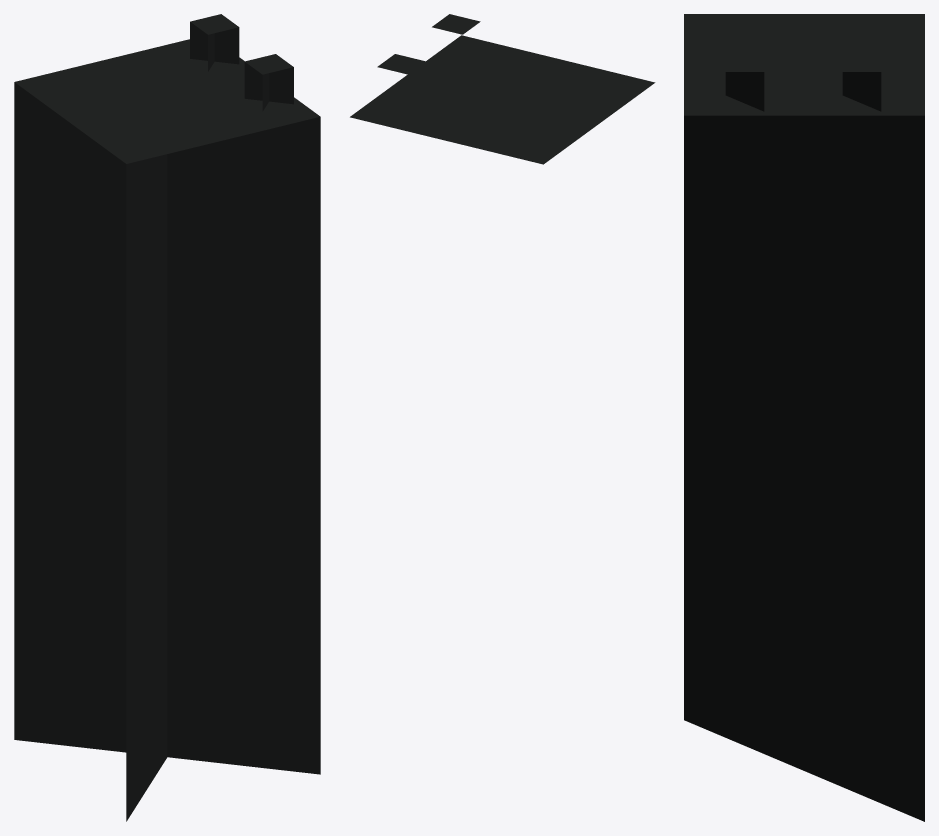
The model's file is AMB_NORM_BILL.glb.
The picture shows the model from 3 angles, left to right: view 1: azimuth 30°, elevation 25°; view 2: azimuth 150°, elevation 25°; view 3: azimuth 270°, elevation 25°; orthographic projection. The views are drawn at different scales.
Parts seen in each view (by area): view 1: BASE; view 2: BASE; view 3: BASE.
Boxes of the visible parts, bbox=[...] form: BASE: bbox=[14, 14, 320, 821]; BASE: bbox=[350, 14, 655, 164]; BASE: bbox=[684, 14, 924, 821].
Bounding box in the file's own units: 50 × 171 × 50.
Materials: 1 (1 with a texture image).
